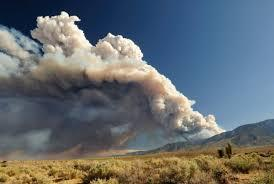yanwu: (0, 7, 226, 153)
